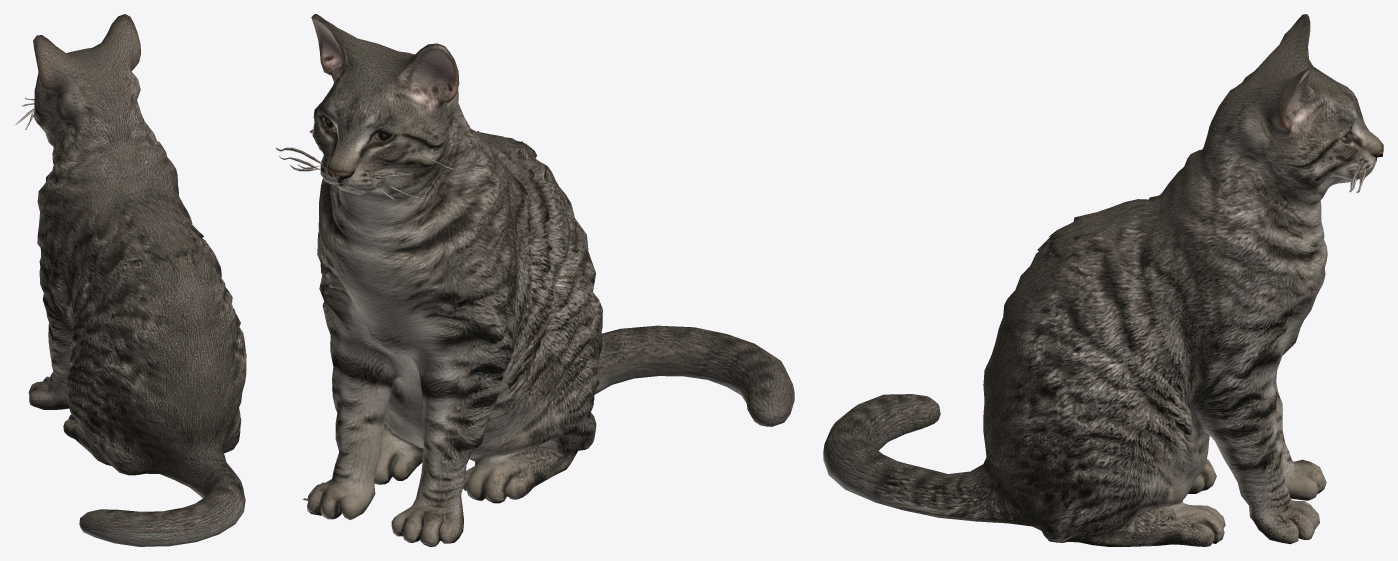
The model's file is cat_gray.glb.
The picture shows the model from 3 angles, left to right: view 1: azimuth 30°, elevation 25°; view 2: azimuth 150°, elevation 25°; view 3: azimuth 270°, elevation 25°; orthographic projection. The views are drawn at different scales.
Parts seen in each view (by area): view 1: tripo_node_5394a940-44b5-4d8e-81c3-b204b; view 2: tripo_node_5394a940-44b5-4d8e-81c3-b204b; view 3: tripo_node_5394a940-44b5-4d8e-81c3-b204b.
Boxes of the visible parts, x1=… form: tripo_node_5394a940-44b5-4d8e-81c3-b204b: x1=15, y1=14, x2=246, y2=546; tripo_node_5394a940-44b5-4d8e-81c3-b204b: x1=276, y1=14, x2=794, y2=546; tripo_node_5394a940-44b5-4d8e-81c3-b204b: x1=823, y1=14, x2=1383, y2=546.
Size of the model in its own units: 0.5996 by 0.9277 by 0.998.
1 material, 1 textured.
